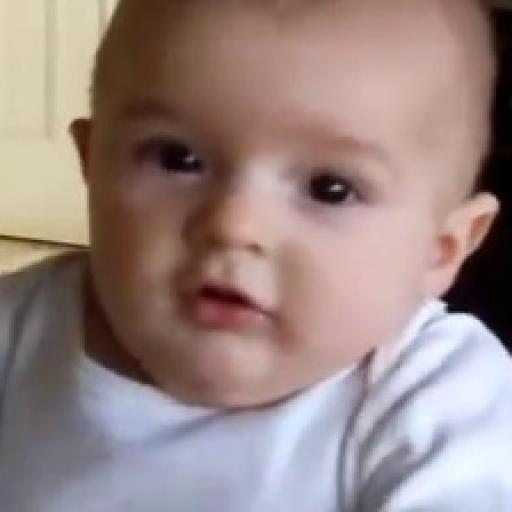Autism: (79, 18, 509, 469)
